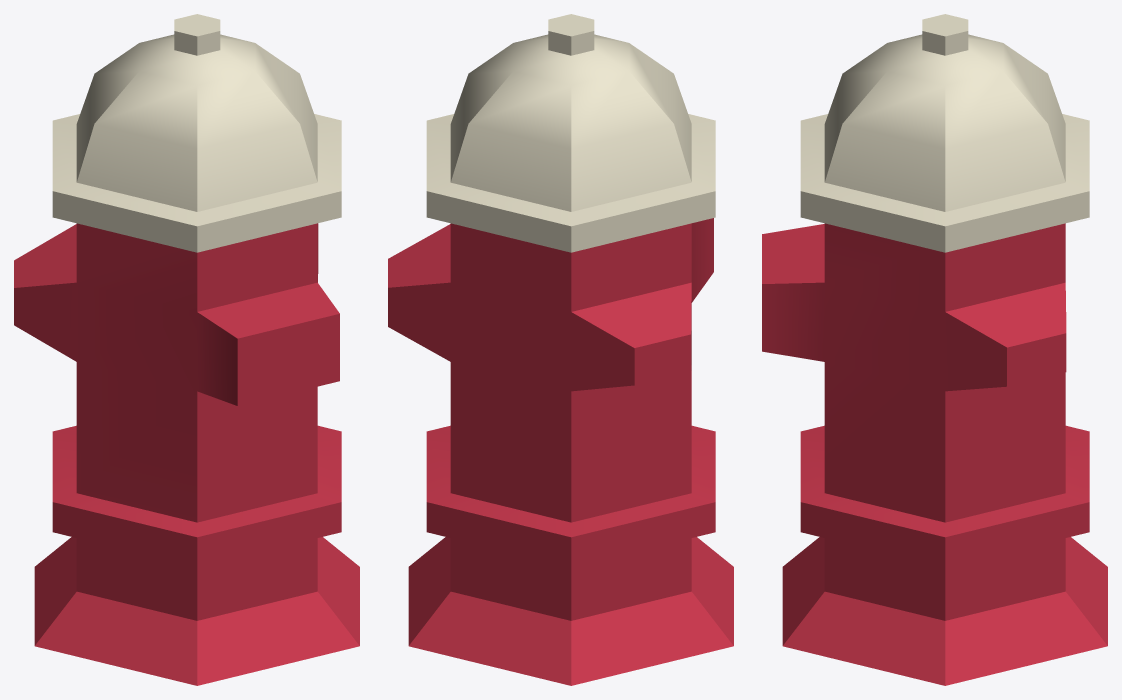
File: hydrant.fbx
3 renders of one model, left to right at view 1: azimuth 30°, elevation 25°; view 2: azimuth 150°, elevation 25°; view 3: azimuth 270°, elevation 25°, orthographic.
Visible parts, largest first — view 1: fireHydrant; view 2: fireHydrant; view 3: fireHydrant.
Part boxes in pixels (<box>): fireHydrant: <box>14,14,359,685</box>; fireHydrant: <box>388,14,733,685</box>; fireHydrant: <box>762,14,1107,685</box>.
Bounding box in the file's own units: 34.62 × 59.1 × 31.87.
